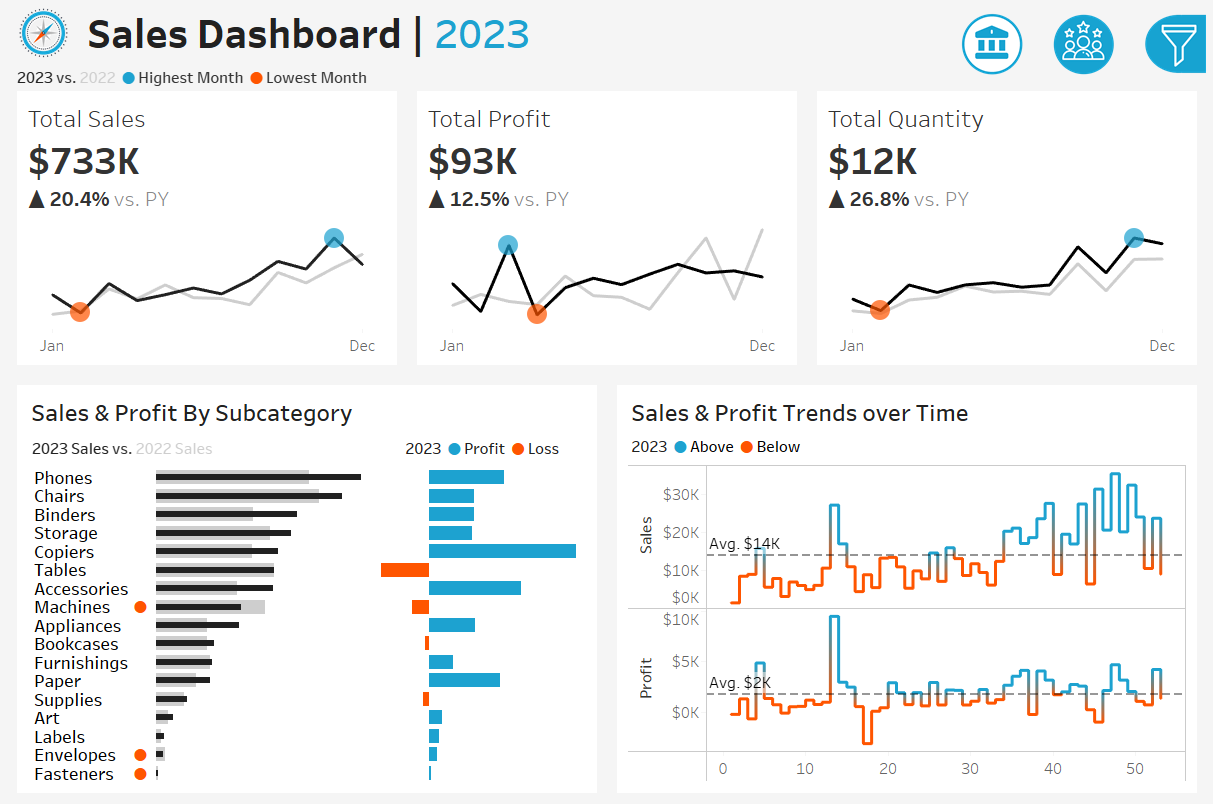

What the dashboard file says about the page in this screenshot:
{"tool":"tableau","page":{"name":"Sales Dashboard","canvas":[1200,800],"ordinal":4},"visuals":[{"type":"image","param":"Image/Icon - Logo.png","box":[0,0,73,59]},{"type":"text","box":[73,0,820,59]},{"type":"dashboard-object","box":[940,6,91,70]},{"type":"dashboard-object","box":[1031,6,91,70]},{"type":"blank","box":[952,10,237,86]},{"type":"worksheet","title":"Legend KPI","mark":"Automatic","box":[0,59,1200,29]},{"type":"worksheet","title":"KPI Sales","mark":"Automatic","rows":["Calculation_721701895347843083"],"cols":["Order Date"],"box":[0,88,400,284]},{"type":"worksheet","title":"KPI Profit","mark":"Automatic","rows":["Min/Max Sales (copy)_237846410425847814"],"cols":["Order Date"],"box":[400,88,400,284]},{"type":"worksheet","title":"KPI Quantity","mark":"Automatic","rows":["Min/Max Sales (copy) (copy)_237846410425856007"],"cols":["Order Date"],"box":[800,88,400,284]},{"type":"text","box":[952,96,237,40]},{"type":"parameter","param":"[Parameters].[Parameter 1]","box":[952,136,237,56]},{"type":"text","box":[952,192,237,33]},{"type":"filter","title":"KPI Sales","param":"[federated.1kpxa041aiai2y1cl4pui1t4eju9].[none:Category:nk]","box":[952,225,237,61]},{"type":"filter","title":"KPI Sales","param":"[federated.1kpxa041aiai2y1cl4pui1t4eju9].[none:Sub-Category:nk]","box":[952,286,237,61]},{"type":"blank","box":[952,347,237,60]},{"type":"text","box":[17,389,566,40]},{"type":"text","box":[617,389,566,40]},{"type":"text","box":[952,407,237,33]},{"type":"worksheet","title":"Legend Subcategory","mark":"Automatic","box":[17,429,374,32]},{"type":"text","box":[391,429,192,32]},{"type":"text","box":[617,429,566,29]},{"type":"filter","title":"KPI Sales","param":"[federated.1kpxa041aiai2y1cl4pui1t4eju9].[none:Region:nk]","box":[952,440,237,61]},{"type":"worksheet","title":"Weekly Trends","mark":"Automatic","rows":["Calculation_721701895334993921","CY Sales (copy)_237846410424180736"],"cols":["Order Date"],"box":[617,458,566,325]},{"type":"worksheet","title":"Subcategory Comparison","mark":"Bar","rows":["Sub-Category","Calculation_2435040078806671369"],"cols":["CY Sales (copy)_721701895335804930","Calculation_721701895334993921","CY Sales (copy)_237846410424180736"],"box":[17,461,566,321.9]},{"type":"filter","title":"KPI Sales","param":"[federated.1kpxa041aiai2y1cl4pui1t4eju9].[none:State:nk]","box":[952,501,237,61]},{"type":"filter","title":"KPI Sales","param":"[federated.1kpxa041aiai2y1cl4pui1t4eju9].[none:City:nk]","box":[952,562,237,61]}]}

Visuals, with their boxes in screenshot pixels (x1, y1, x2, y2), scaled from the page's 1200x800 canvas onto the 1213x804 screenshot:
image: detection(0, 0, 74, 59)
text: detection(74, 0, 903, 59)
dashboard-object: detection(950, 6, 1042, 76)
dashboard-object: detection(1042, 6, 1134, 76)
blank: detection(962, 10, 1202, 96)
"Legend KPI" worksheet: detection(0, 59, 1212, 88)
"KPI Sales" worksheet: detection(0, 88, 404, 374)
"KPI Profit" worksheet: detection(404, 88, 809, 374)
"KPI Quantity" worksheet: detection(809, 88, 1212, 374)
text: detection(962, 96, 1202, 137)
parameter: detection(962, 137, 1202, 193)
text: detection(962, 193, 1202, 226)
"KPI Sales" filter: detection(962, 226, 1202, 287)
"KPI Sales" filter: detection(962, 287, 1202, 349)
blank: detection(962, 349, 1202, 409)
text: detection(17, 391, 589, 431)
text: detection(624, 391, 1196, 431)
text: detection(962, 409, 1202, 442)
"Legend Subcategory" worksheet: detection(17, 431, 395, 463)
text: detection(395, 431, 589, 463)
text: detection(624, 431, 1196, 460)
"KPI Sales" filter: detection(962, 442, 1202, 504)
"Weekly Trends" worksheet: detection(624, 460, 1196, 787)
"Subcategory Comparison" worksheet (Bar marks): detection(17, 463, 589, 787)
"KPI Sales" filter: detection(962, 504, 1202, 565)
"KPI Sales" filter: detection(962, 565, 1202, 626)
